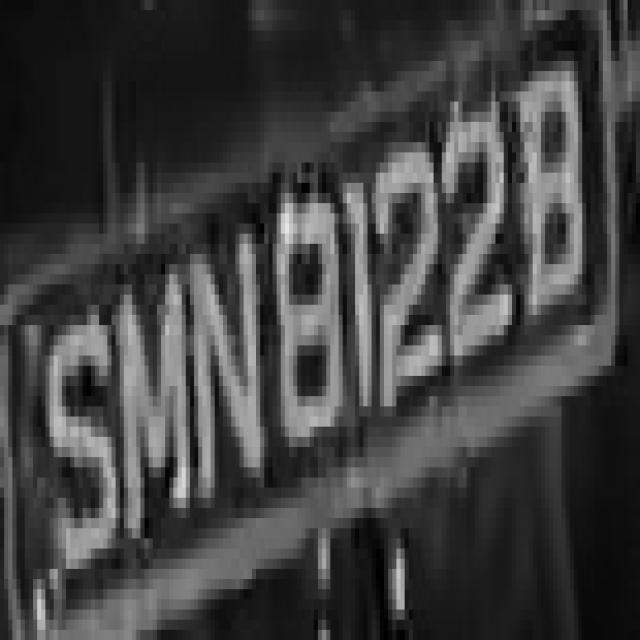1: (338, 91, 380, 478)
2: (425, 81, 516, 396), (359, 112, 438, 447)
8: (268, 142, 338, 498)
B: (512, 10, 590, 366)
M: (99, 244, 194, 579)
N: (186, 203, 268, 518)
S: (42, 284, 112, 579)
